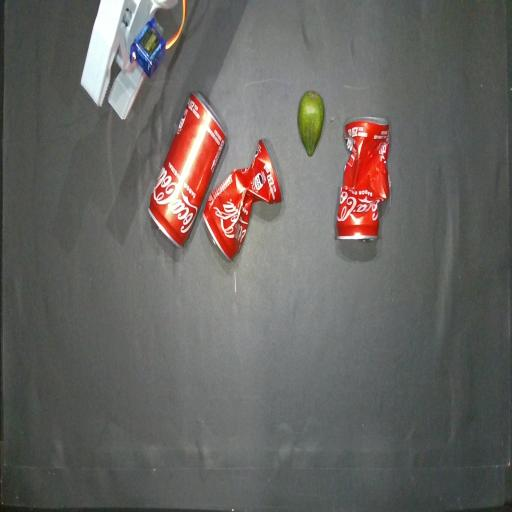higo: (298, 91, 324, 155)
lata: (149, 91, 226, 247)
lata_defectuoso: (203, 139, 282, 260), (336, 117, 390, 240)
